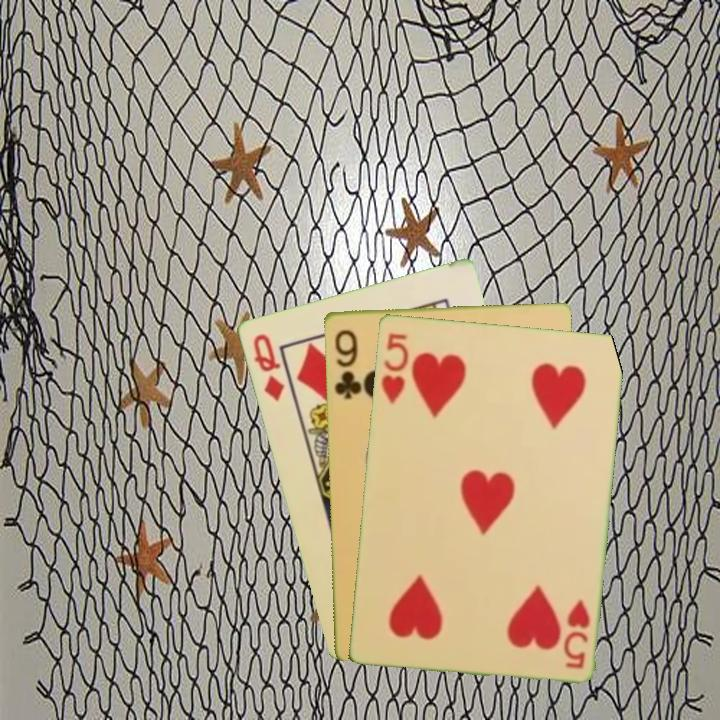5h: (377, 329, 411, 406), (559, 595, 592, 671)
9c: (330, 326, 363, 401)
Qd: (249, 330, 287, 404)
